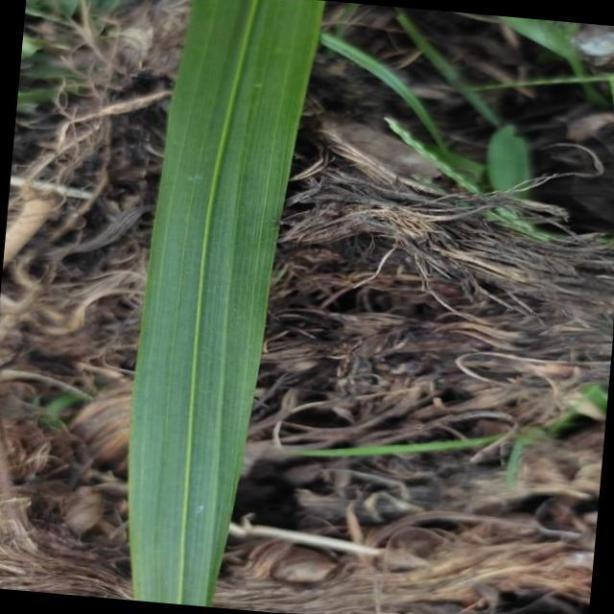Healthy: (128, 0, 339, 614)
